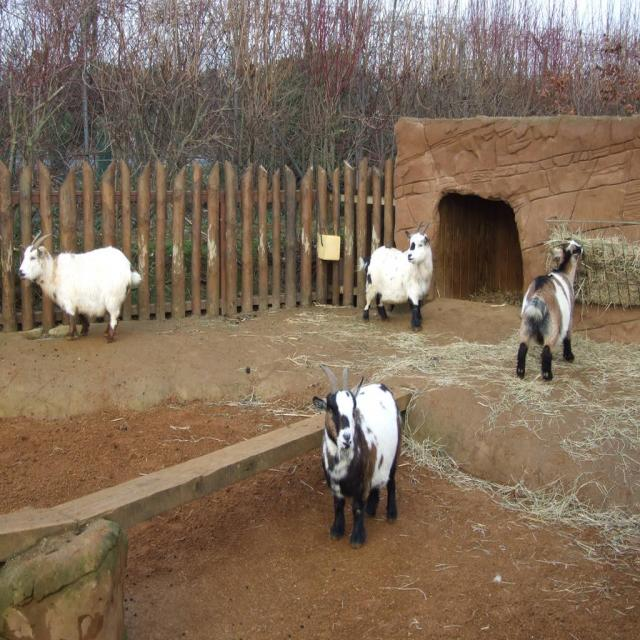Sheep: (313, 364, 402, 552), (17, 228, 143, 344), (516, 240, 586, 382), (356, 220, 434, 334)
